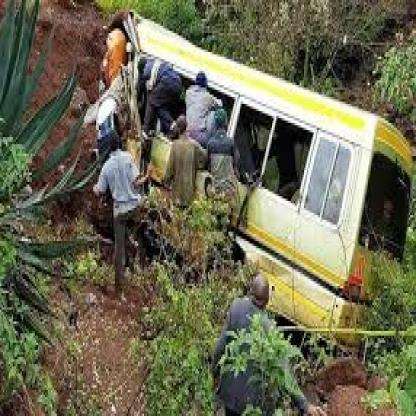accident: (87, 4, 409, 350)
